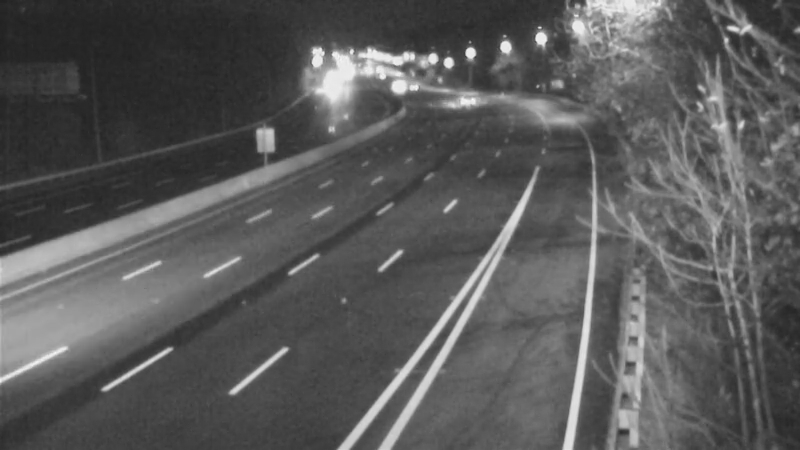vehicle: (369, 59, 419, 109), (387, 61, 437, 111), (445, 72, 495, 122)
